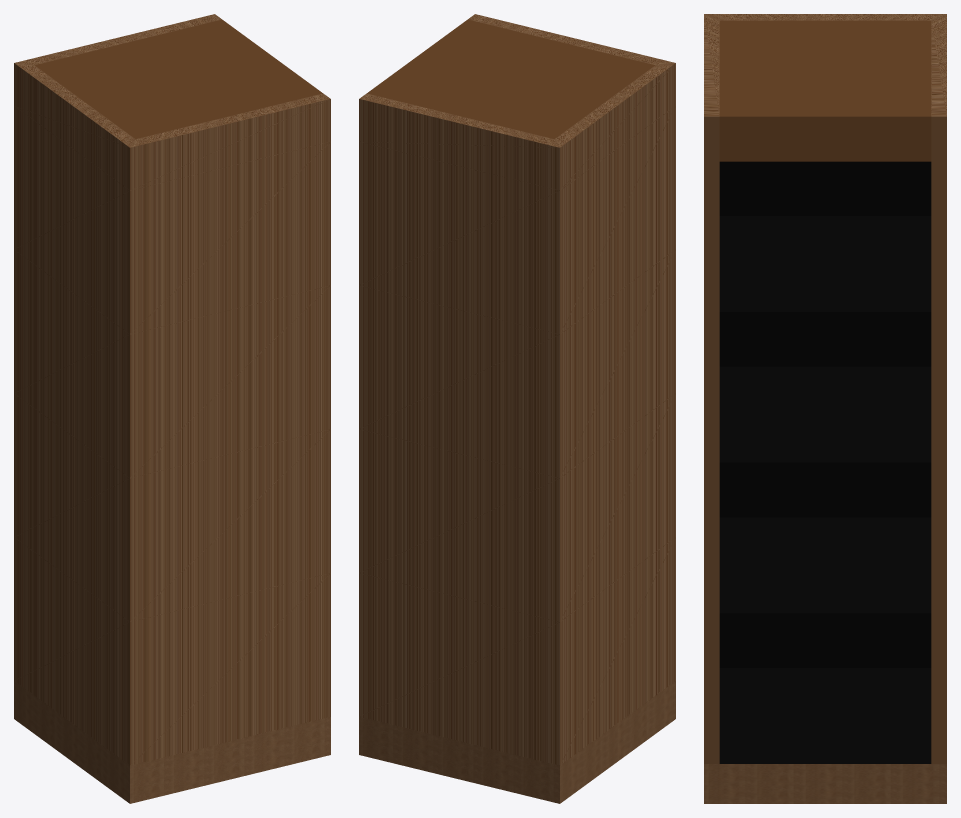
Rendered from rangementv2.fbx.
3 renders of one model, left to right at view 1: azimuth 30°, elevation 25°; view 2: azimuth 150°, elevation 25°; view 3: azimuth 270°, elevation 25°, orthographic. The views are drawn at different scales.
Parts seen in each view (by area): view 1: Cube.077; view 2: Cube.077; view 3: Cube.077.
Boxes of the visible parts, x1,y1,x2,y2 form: Cube.077: (14, 14, 330, 803); Cube.077: (359, 14, 675, 803); Cube.077: (704, 14, 946, 803).
Bounding box in the file's own units: 89.08 × 278 × 89.08.
2 materials, 1 textured.
